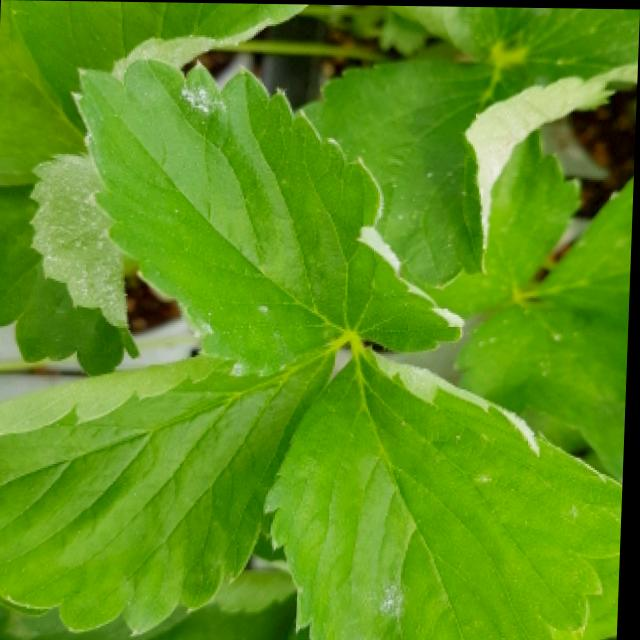Powdery Mildew Leaf: (72, 55, 466, 377), (264, 344, 626, 640), (294, 55, 616, 287), (9, 0, 309, 137), (0, 152, 141, 377), (497, 6, 640, 82)
